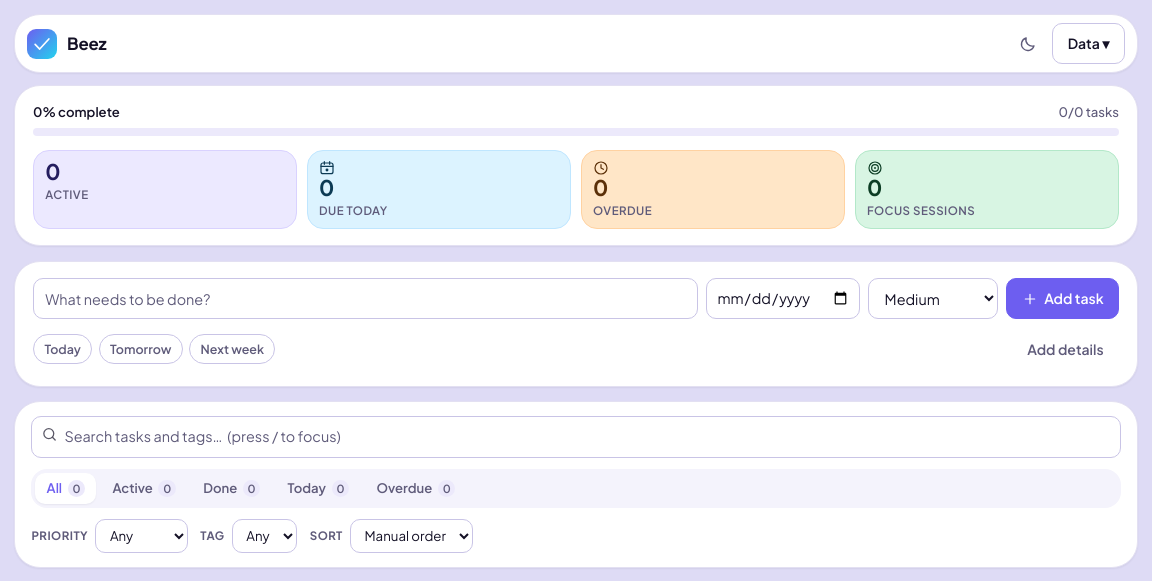
App › explains why Add task does nothing when the title is empty
Expected: the button "Add task" is enabled, [1006,278,1119,319]
# Fill the optional fields but no title, then try to submit.
Click the button "Add details": (1065, 349) [1012,329,1119,370]
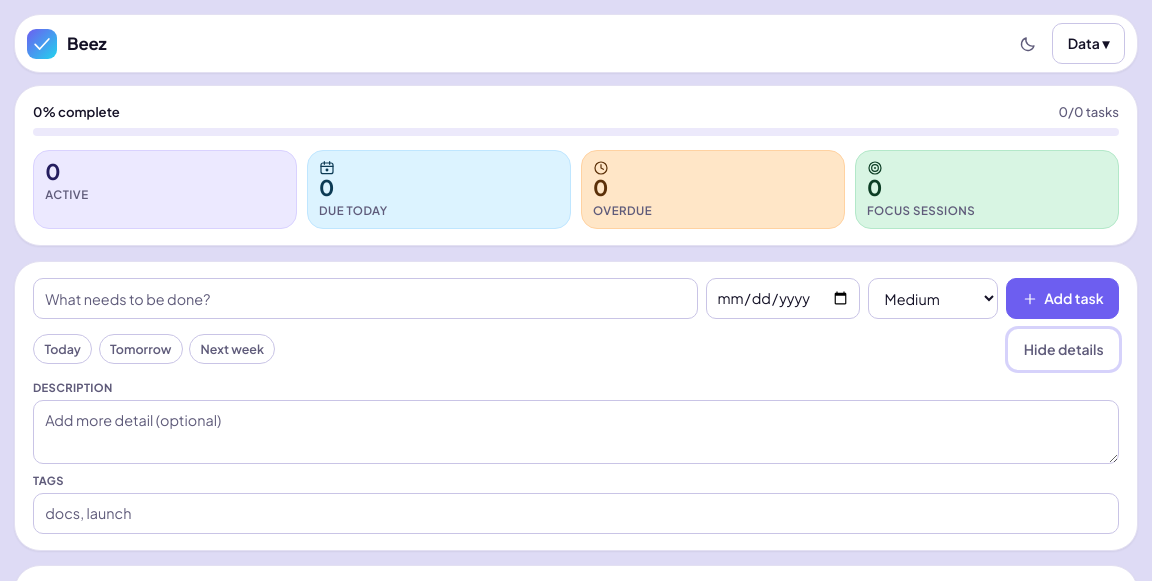
In the text box named "Task description": (576, 432) [33,400,1119,464], type "Some detail"
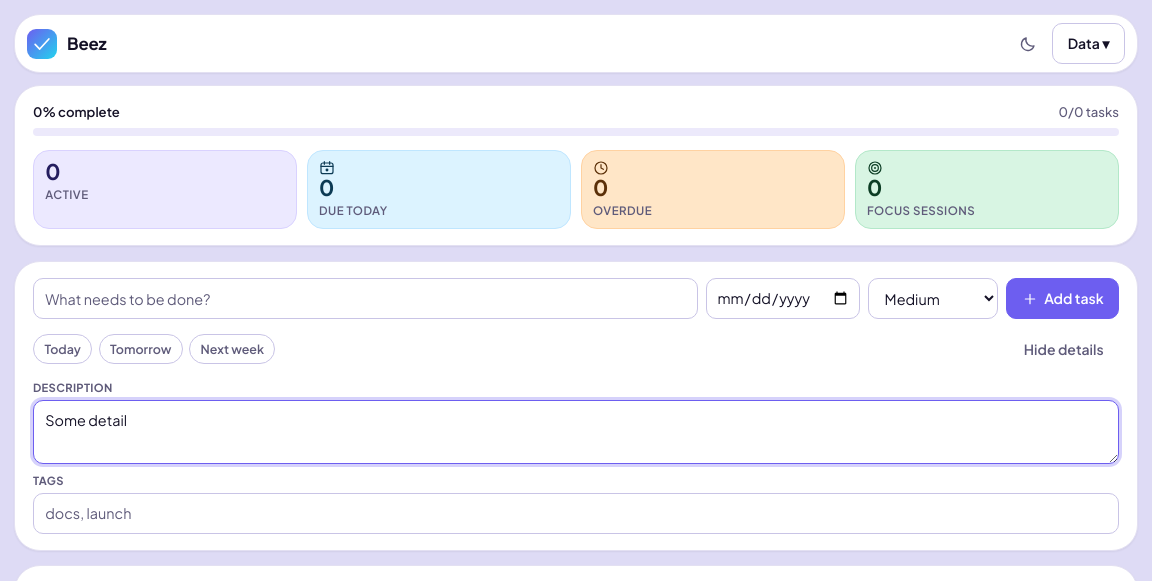
In the field labelled "Tags": (576, 513) [33,493,1119,534], type "docs"
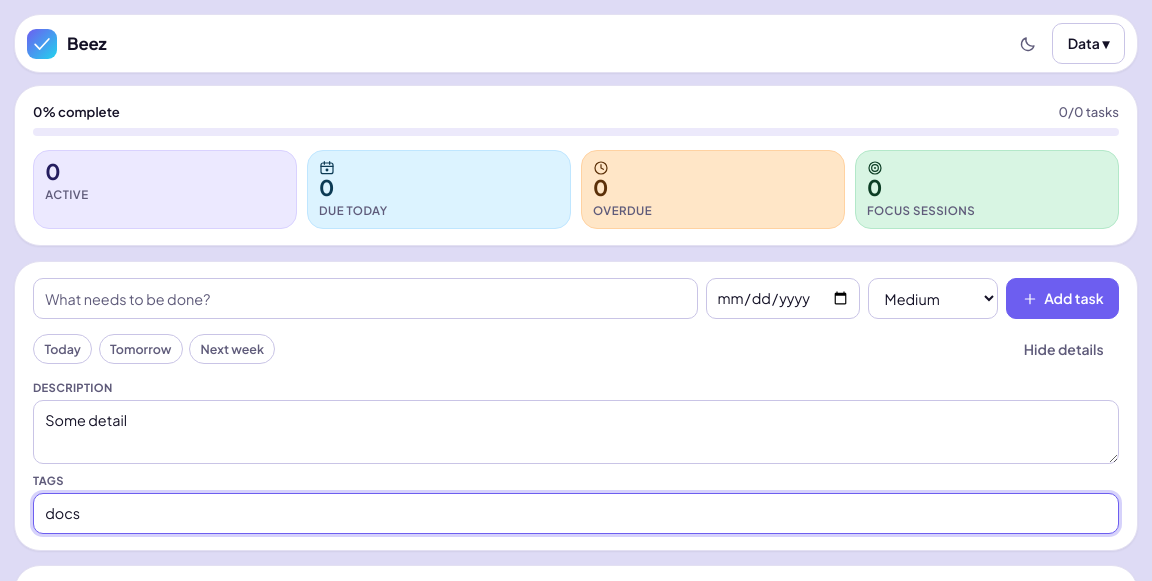
Click the button "Add task": (1063, 299) [1006,278,1119,319]
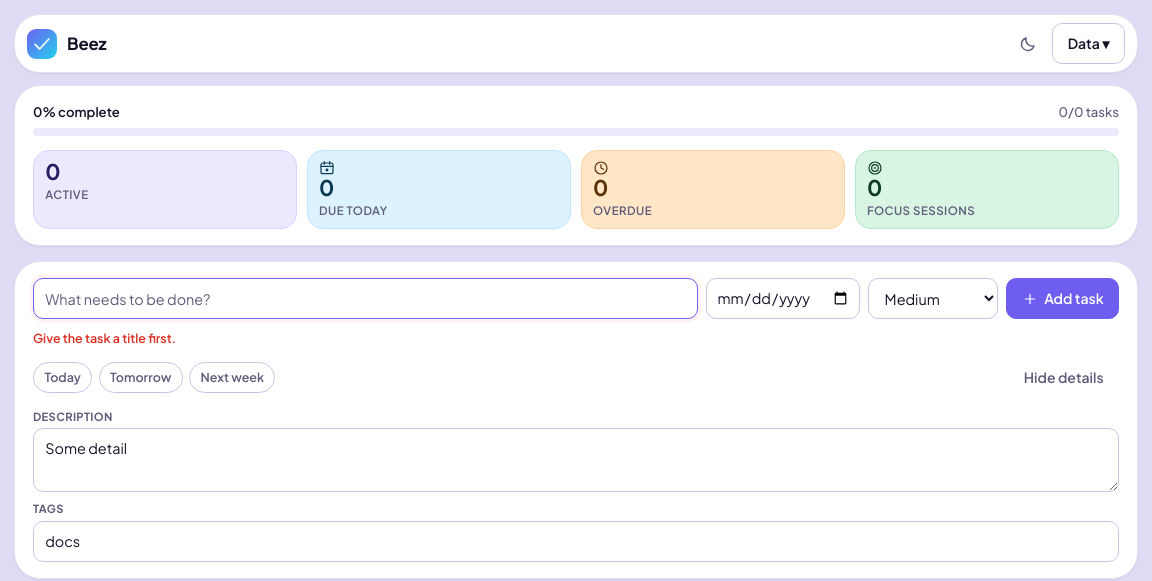
Result: the message reads "Give the task a title first." at [33,330,176,346]
